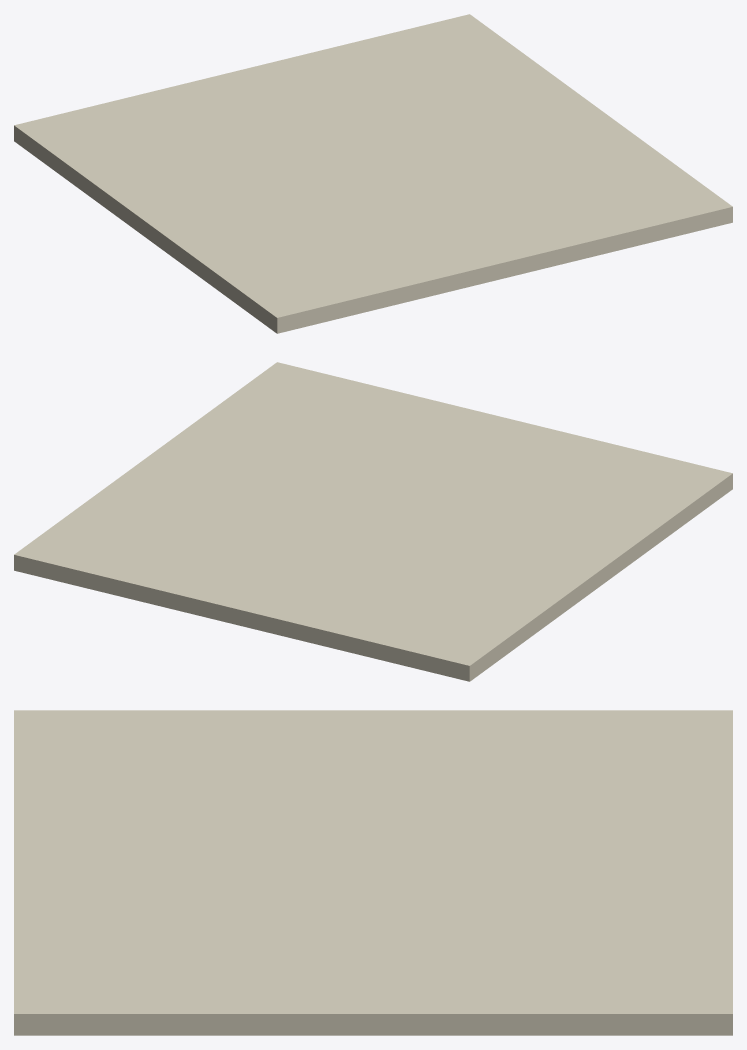
The model's file is monastery_flagstone_floor_slab.glb.
The picture shows the model from 3 angles, top to bottom: view 1: azimuth 30°, elevation 25°; view 2: azimuth 150°, elevation 25°; view 3: azimuth 270°, elevation 25°; orthographic projection. The views are drawn at different scales.
Parts seen in each view (by area): view 1: world; view 2: world; view 3: world.
Boxes of the visible parts, box(x1,y1,x2,y2) form: world: box(14, 14, 732, 333); world: box(14, 362, 732, 681); world: box(14, 710, 732, 1035).
Size of the model in its own units: 2 by 0.0667 by 2.
